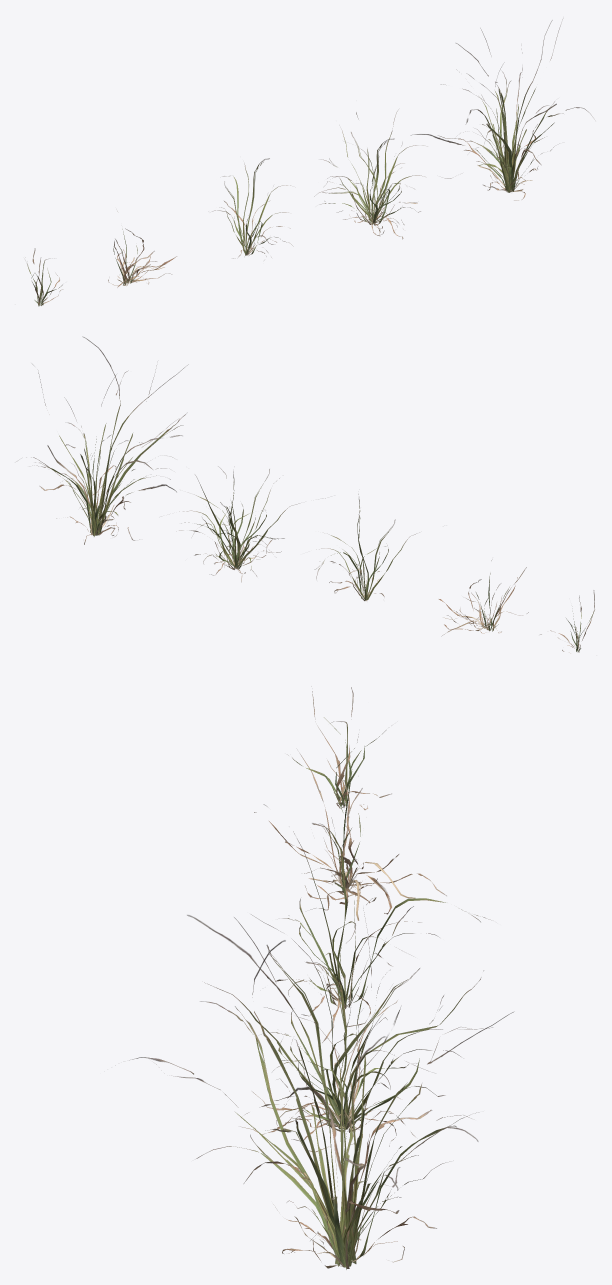
Rendered from grass_medium_02.glb.
The picture shows the model from 3 angles, top to bottom: view 1: azimuth 30°, elevation 25°; view 2: azimuth 150°, elevation 25°; view 3: azimuth 270°, elevation 25°; orthographic projection. The views are drawn at different scales.
Parts seen in each view (by area): view 1: grass_medium_02_a; view 2: grass_medium_02_a; view 3: grass_medium_02_a.
Boxes of the visible parts, bbox=[...] form: grass_medium_02_a: bbox=[27, 18, 594, 306]; grass_medium_02_a: bbox=[18, 337, 594, 653]; grass_medium_02_a: bbox=[129, 687, 513, 1269].
Size of the model in its own units: 1.31 by 0.4057 by 0.4317.
Materials: 1 (1 with a texture image).
